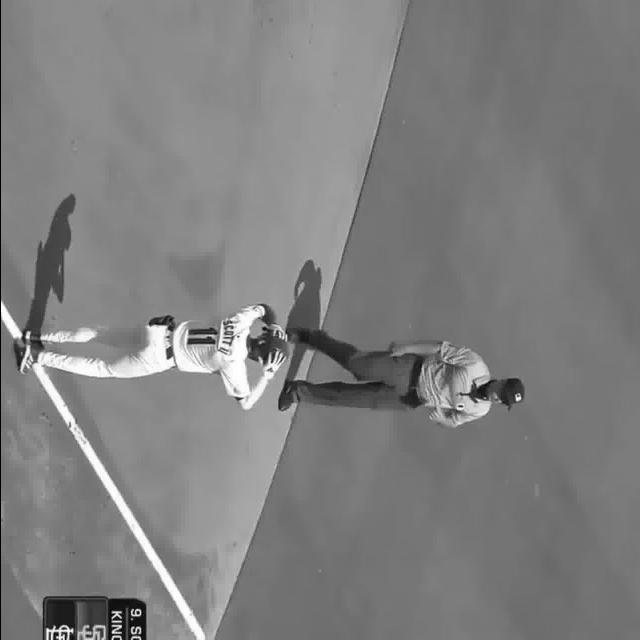shoe: (18, 329, 52, 352), (276, 383, 300, 412), (18, 346, 44, 372), (287, 323, 309, 347)
